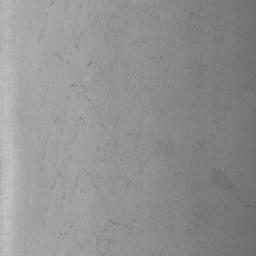Silk spot: (69, 82, 87, 92), (191, 63, 208, 71)
